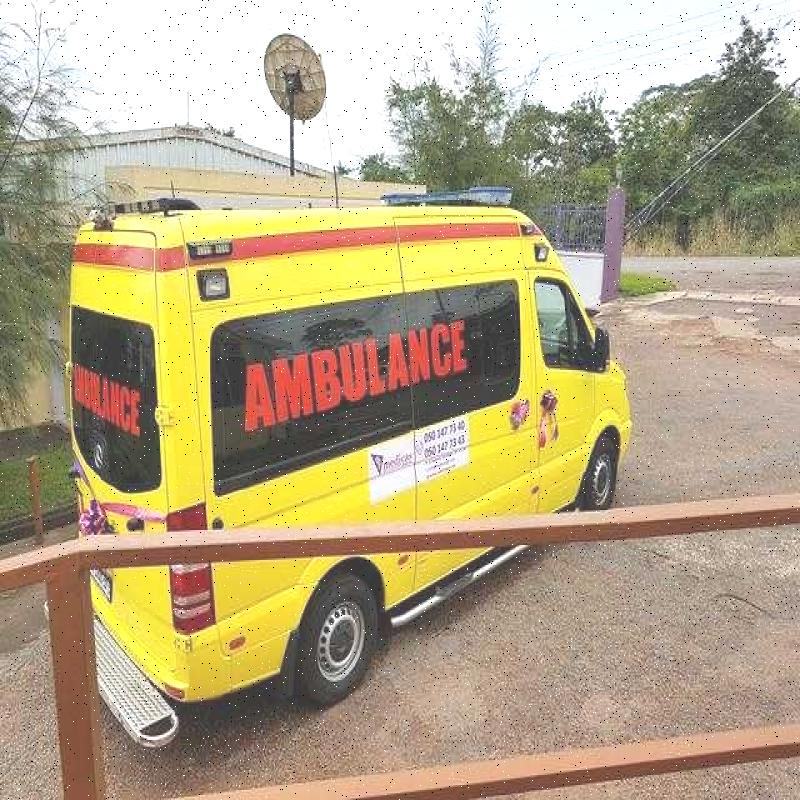AmbulanceSiren: (386, 186, 516, 214)
